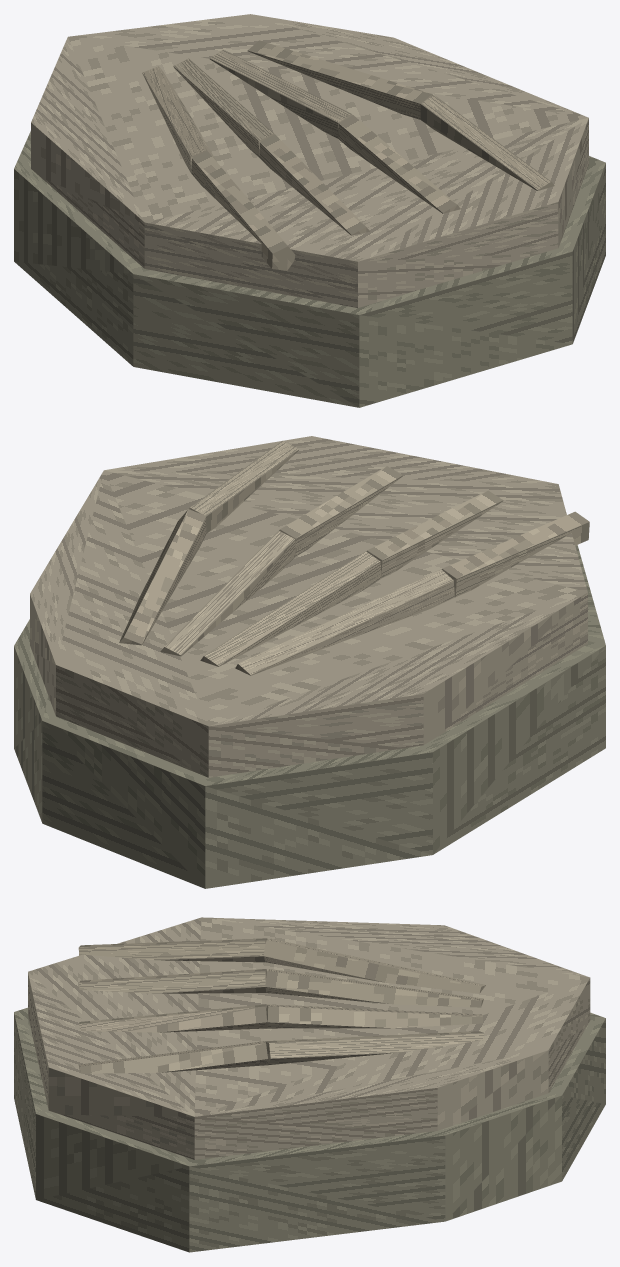
Rendered from oyster.glb.
3 renders of one model, top to bottom at view 1: azimuth 30°, elevation 25°; view 2: azimuth 150°, elevation 25°; view 3: azimuth 270°, elevation 25°, orthographic. The views are drawn at different scales.
Parts seen in each view (by area): view 1: block_upper shell, block_lower shell, block_shell rib 1 (×4), block_shell rib 0 (×4); view 2: block_upper shell, block_lower shell, block_shell rib 0 (×4), block_shell rib 1 (×4); view 3: block_upper shell, block_lower shell, block_shell rib 0 (×4), block_shell rib 1 (×4).
Part boxes in pixels (x1,y1,x2,y2): block_upper shell: (31,14,588,307); block_lower shell: (14,131,605,407); block_shell rib 1 (×4): (191,95,554,270); block_shell rib 0 (×4): (142,40,433,172); block_upper shell: (30,436,587,777); block_lower shell: (14,545,605,888); block_shell rib 0 (×4): (119,509,454,675); block_shell rib 1 (×4): (189,440,589,597); block_upper shell: (28,917,590,1159); block_lower shell: (14,1007,605,1252); block_shell rib 0 (×4): (263,938,485,1064); block_shell rib 1 (×4): (78,938,268,1073).
Bounding box in the file's own units: 0.0545 × 0.018 × 0.0643.
1 material, 1 textured.
